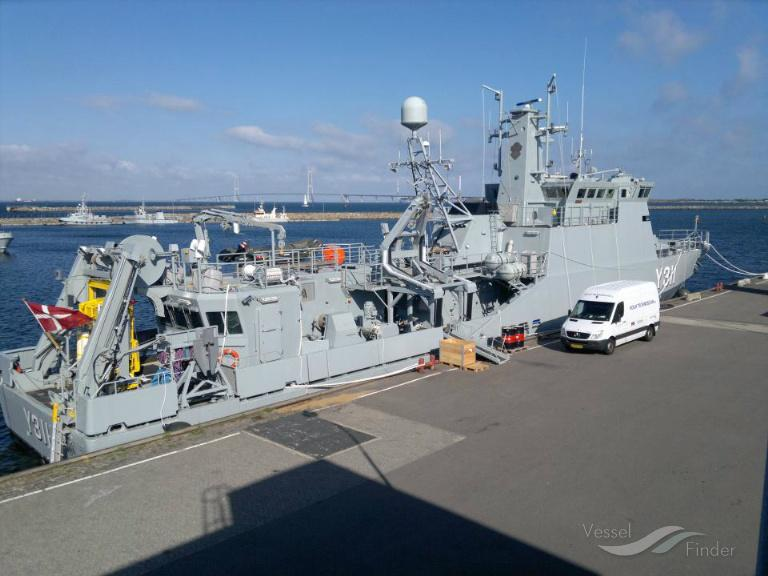OCR: (19, 402, 57, 456), (654, 264, 682, 288)
